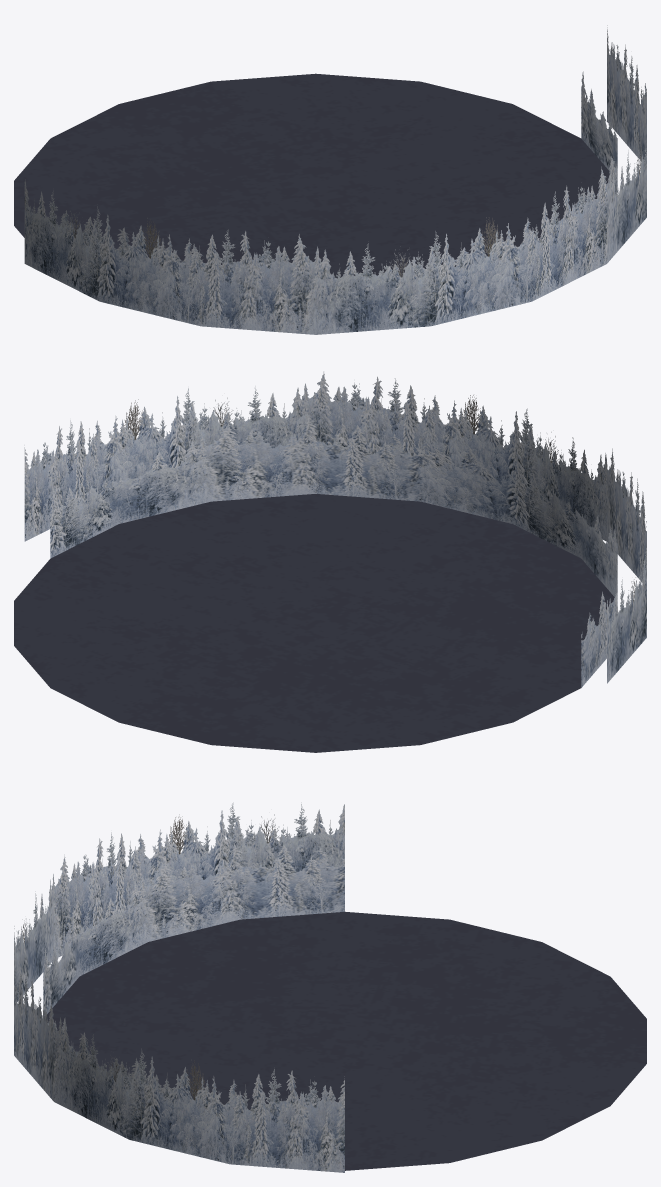
File: Ground_01.FBX
The picture shows the model from 3 angles, top to bottom: view 1: azimuth 30°, elevation 25°; view 2: azimuth 150°, elevation 25°; view 3: azimuth 270°, elevation 25°; orthographic projection.
Visible parts, largest first — view 1: Ground_01, Tree_02, Tree_01; view 2: Ground_01, Tree_02, Tree_01; view 3: Ground_01, Tree_02, Tree_01.
Part boxes in pixels (bbox=[...]): Ground_01: bbox=[14, 73, 610, 278]; Tree_02: bbox=[24, 25, 646, 334]; Tree_01: bbox=[58, 71, 617, 276]; Ground_01: bbox=[14, 494, 614, 752]; Tree_02: bbox=[24, 371, 646, 683]; Tree_01: bbox=[50, 418, 617, 687]; Ground_01: bbox=[47, 911, 646, 1170]; Tree_02: bbox=[14, 802, 344, 1172]; Tree_01: bbox=[43, 844, 344, 1098].
Size of the model in its own units: 43.87 by 8.51 by 41.3.
